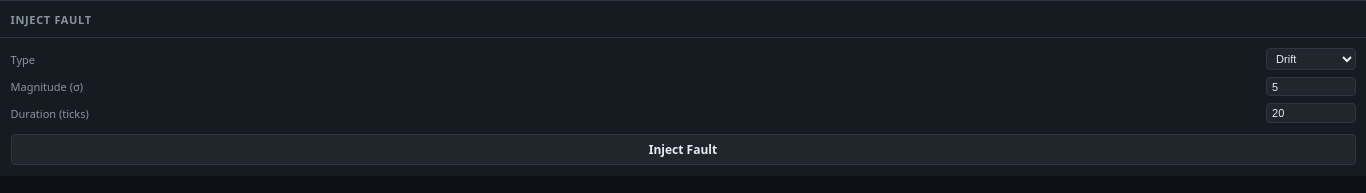
Test case: InjectControl › disables button while injecting
The image size is (1366, 193).
Click the button at (683, 149), box [10, 134, 1356, 165]
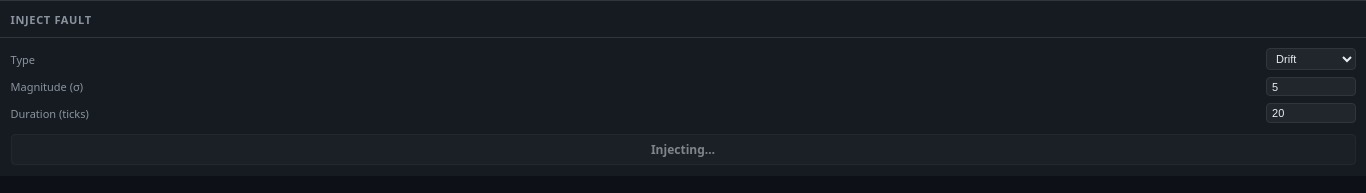
Expected: the button is disabled, [10, 134, 1356, 165]
